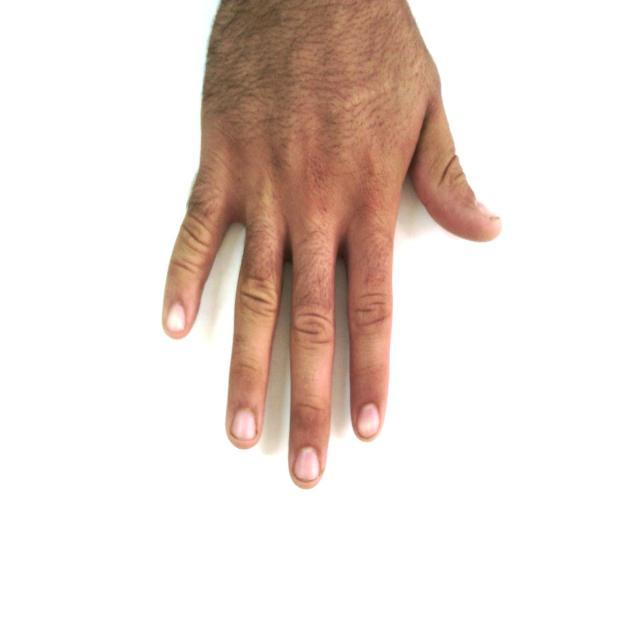Fingernail: (295, 447, 319, 480), (358, 405, 379, 436), (234, 410, 256, 439), (167, 305, 185, 331), (476, 203, 498, 219)
